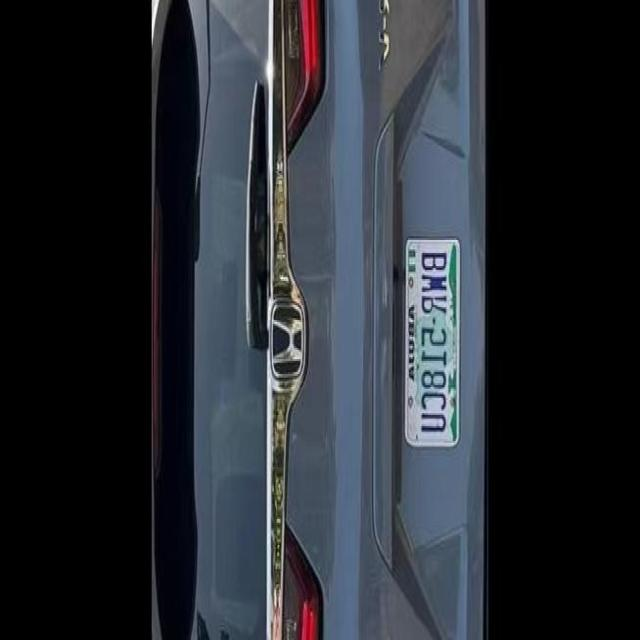Nigerian License Plate - vdataset benjamin-daria: (400, 233, 464, 452)
